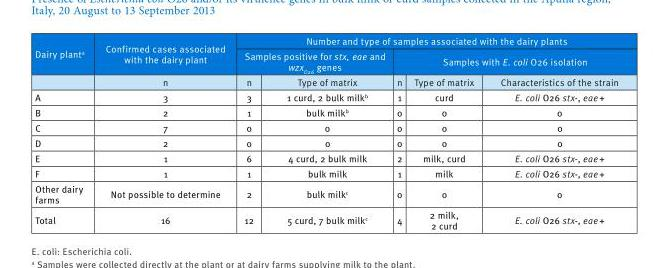table: (34, 34, 617, 231)
table column: (94, 34, 234, 231), (486, 34, 617, 231), (269, 34, 390, 231), (407, 34, 486, 231), (34, 34, 94, 231), (234, 34, 269, 231), (390, 34, 407, 231)
table column header: (34, 34, 617, 89)
table row: (34, 48, 617, 75), (34, 181, 617, 207), (34, 207, 617, 231), (34, 104, 617, 120), (34, 165, 617, 181), (34, 89, 617, 104), (34, 120, 617, 135), (34, 135, 617, 150), (34, 150, 617, 165), (34, 34, 617, 48), (34, 75, 617, 89)
table spanning cell: (94, 34, 234, 89), (390, 48, 617, 75), (234, 34, 617, 48), (234, 48, 390, 75), (34, 34, 94, 89)
